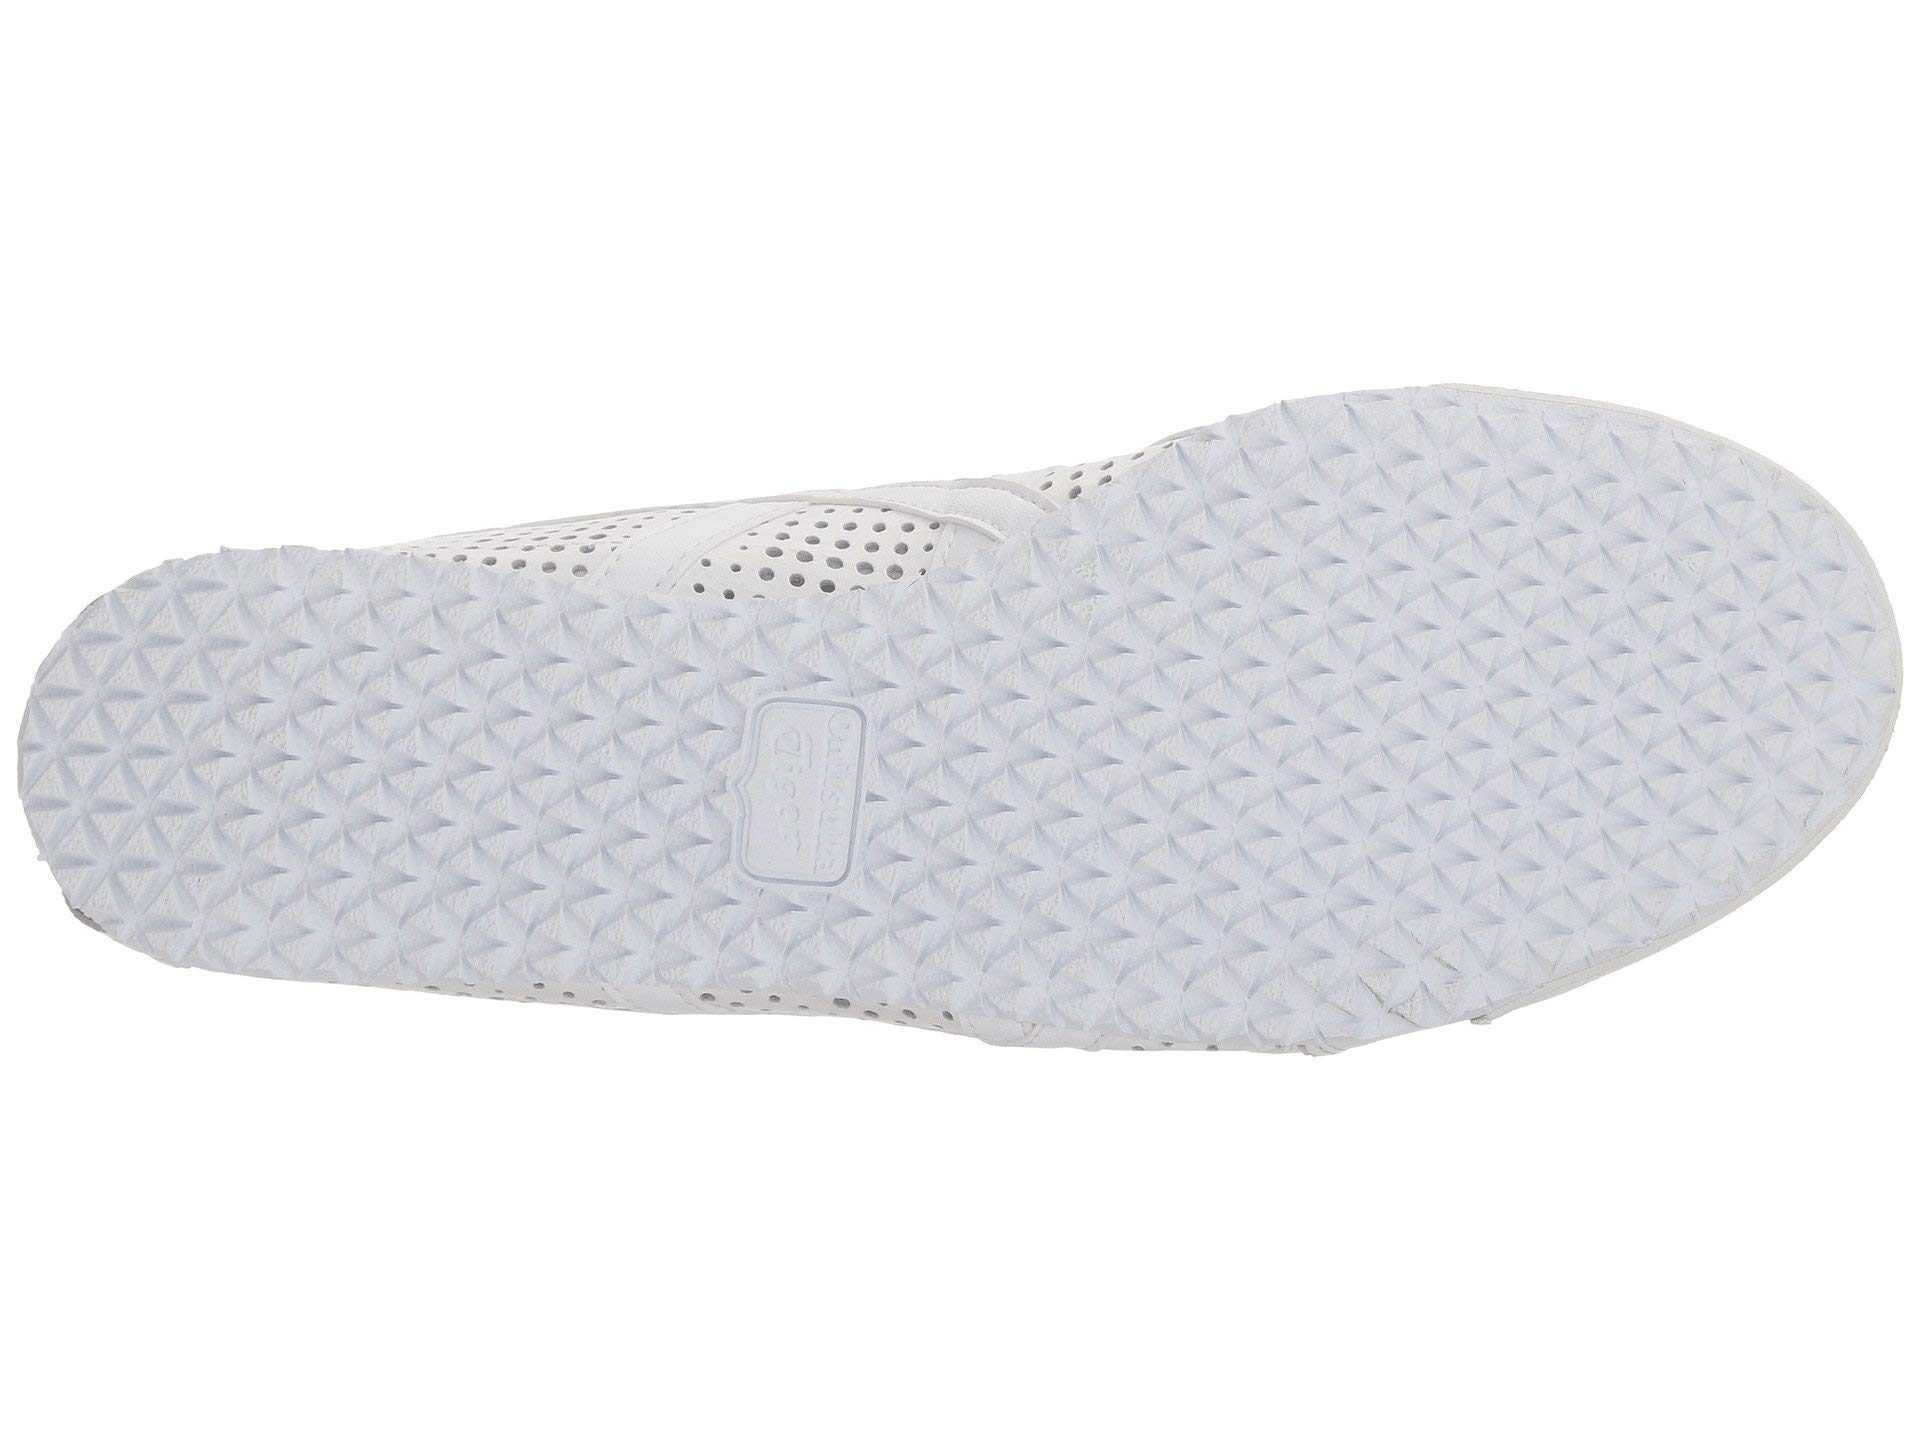circle: (735, 697, 862, 883)
other: (1092, 470, 1618, 968)
quad: (735, 697, 862, 883)
text: (735, 697, 862, 883)
triangle: (1092, 470, 1618, 968)
